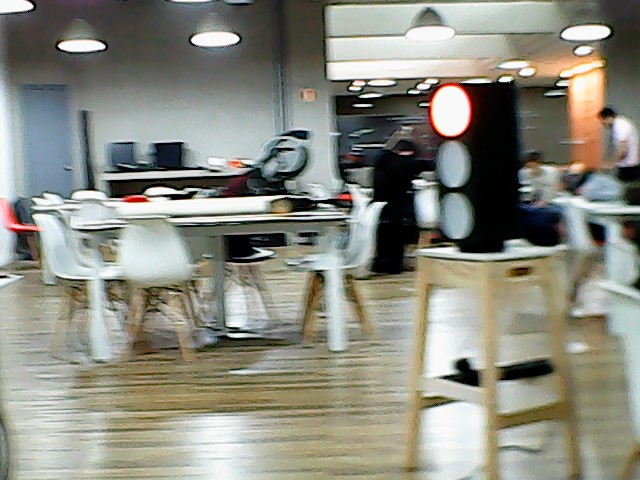vermelho: (424, 77, 522, 247)
